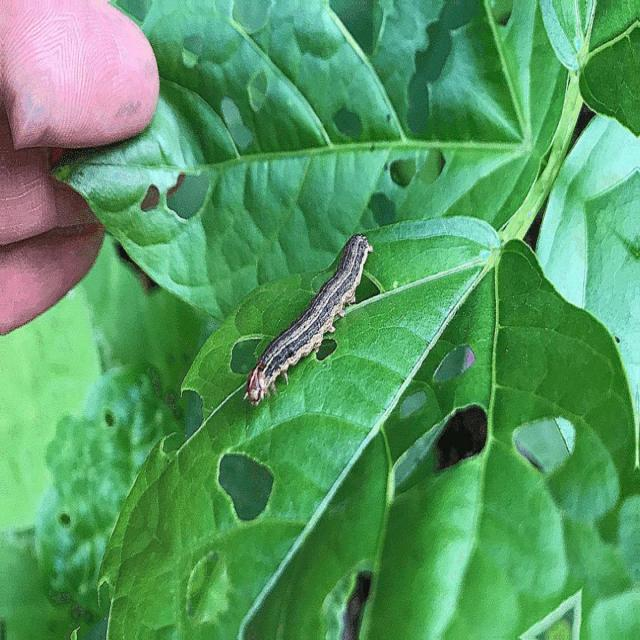Armyworm: (239, 235, 383, 400)
Armyworm_damage: (396, 410, 493, 499), (168, 544, 251, 639), (146, 370, 222, 464), (512, 404, 589, 485), (213, 447, 285, 527), (159, 162, 221, 237), (214, 82, 260, 166), (225, 1, 286, 48), (430, 344, 484, 396), (380, 140, 423, 198), (236, 64, 283, 117), (328, 100, 370, 146), (133, 179, 168, 228), (176, 32, 208, 81), (366, 190, 397, 240)
